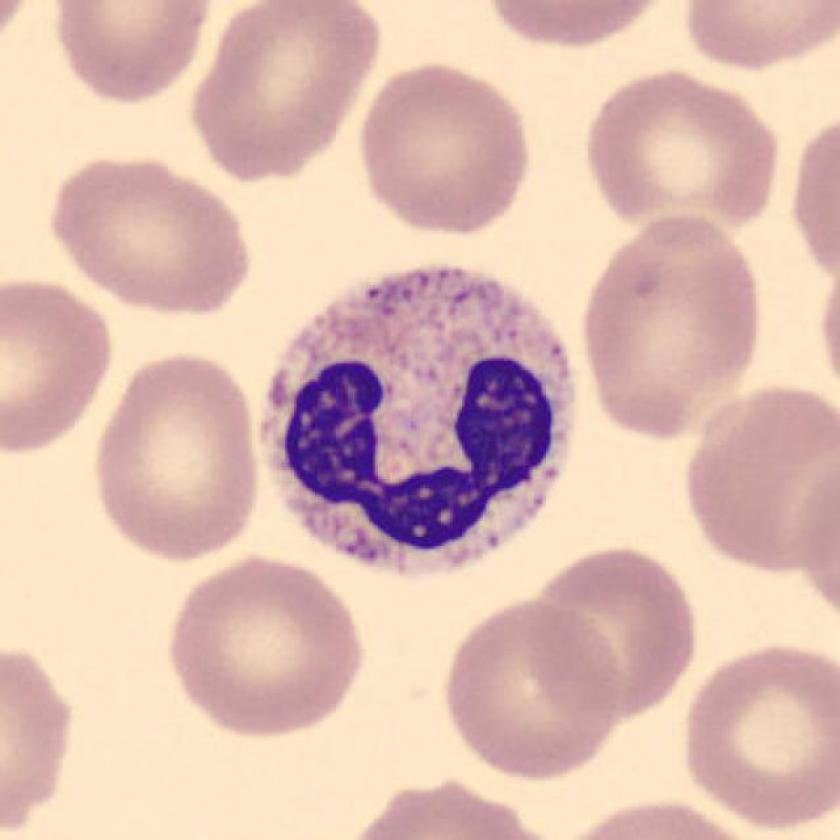neutrophil: (258, 269, 577, 577)
